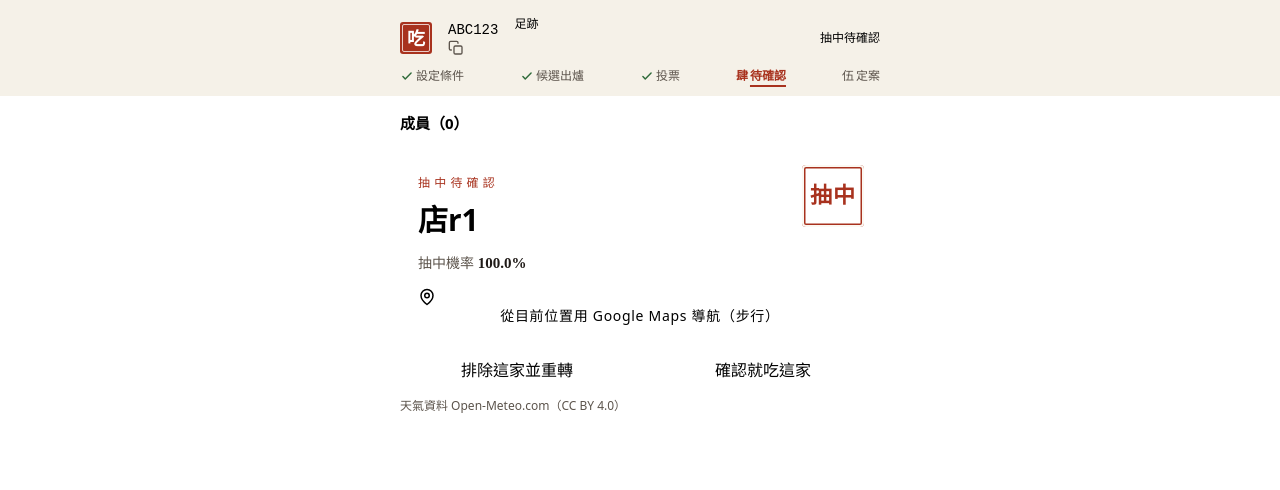
Test: RoomPage 抽選與待確認 › 確認就吃這家 失敗時顯示錯誤且不 refetch
Click the button "確認就吃這家" at (763, 370), box [646,358,880,382]
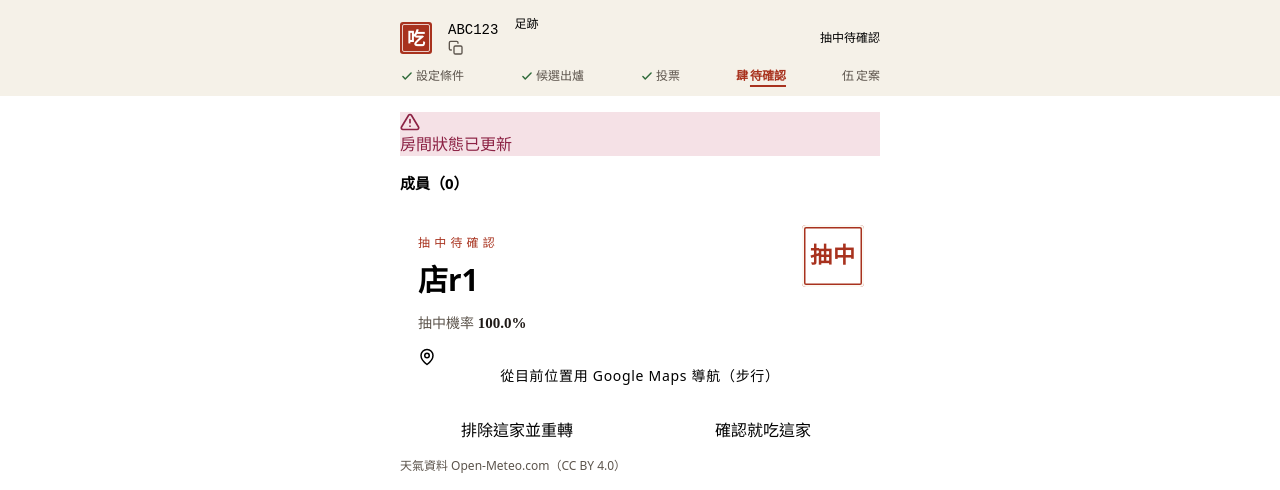
Expected: the button "確認就吃這家" is enabled, [646,418,880,442]
Expected: the text "房間狀態已更新" is shown, [400,133,512,155]
